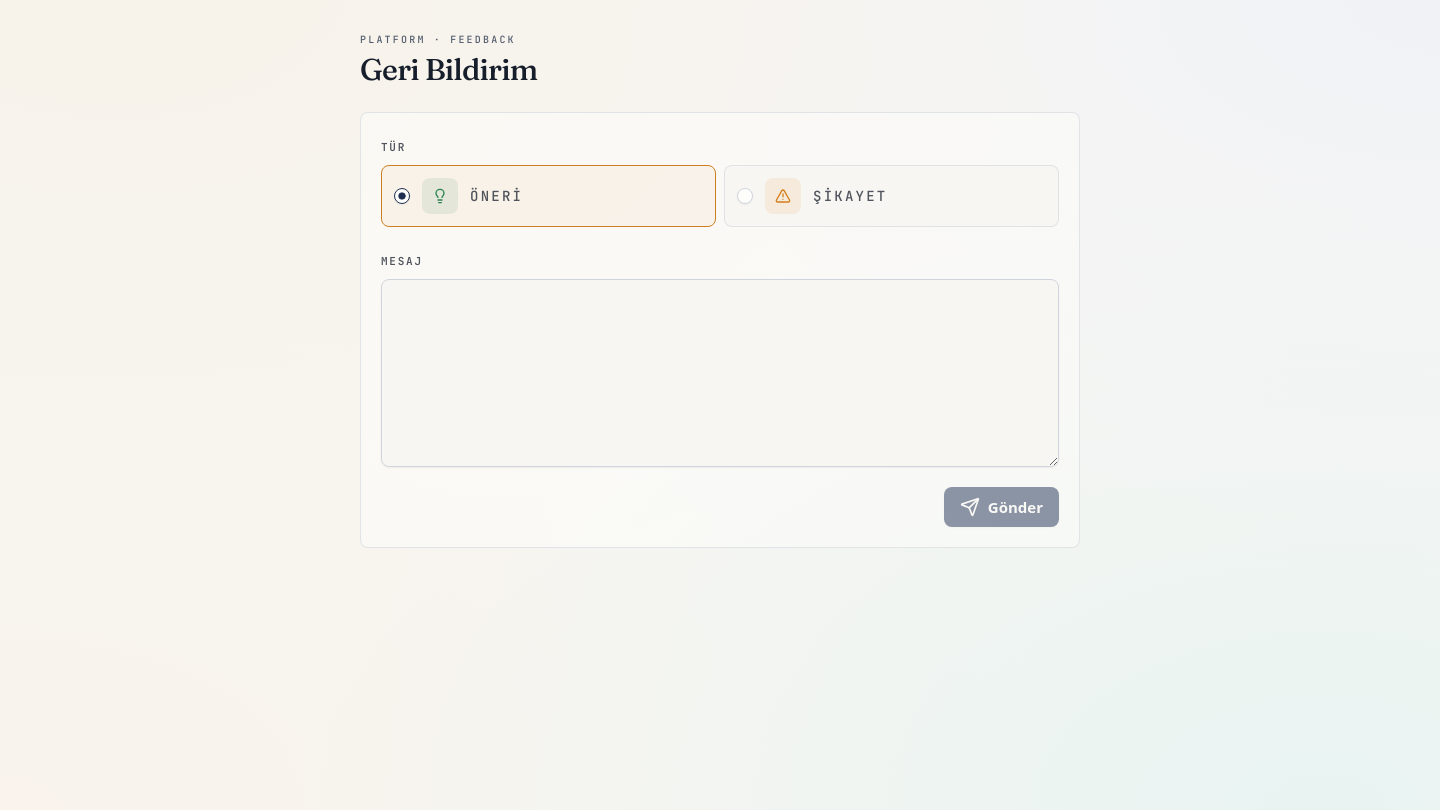
Test: Feedback › submits trimmed feedback payload
This screenshot has width=1440, height=810.
Click the radio button named "şikayet": (745, 196) [737,188,753,204]
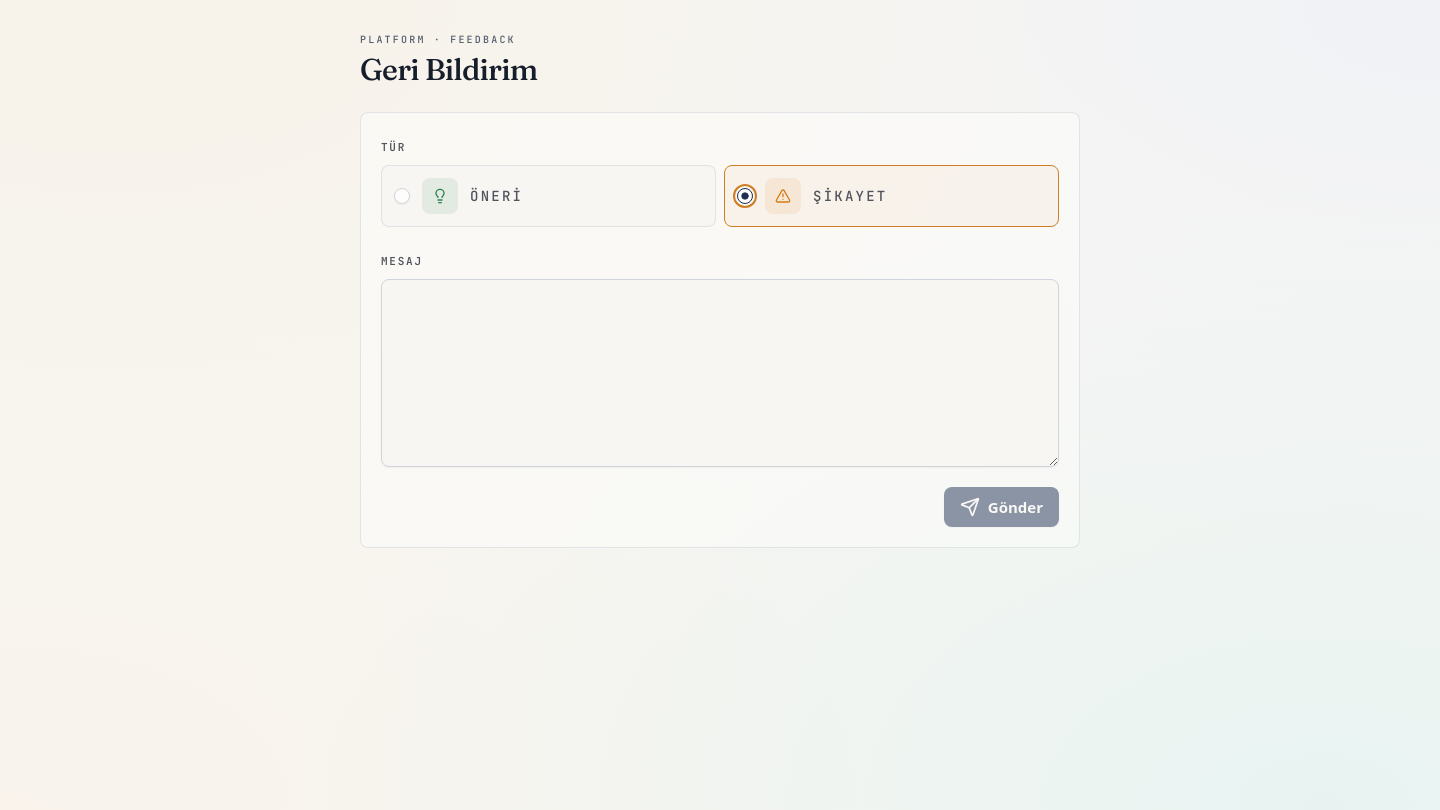
In the text box labelled "Mesaj": (720, 373) [381,278,1059,467], type "  Panel kapanıyor  "
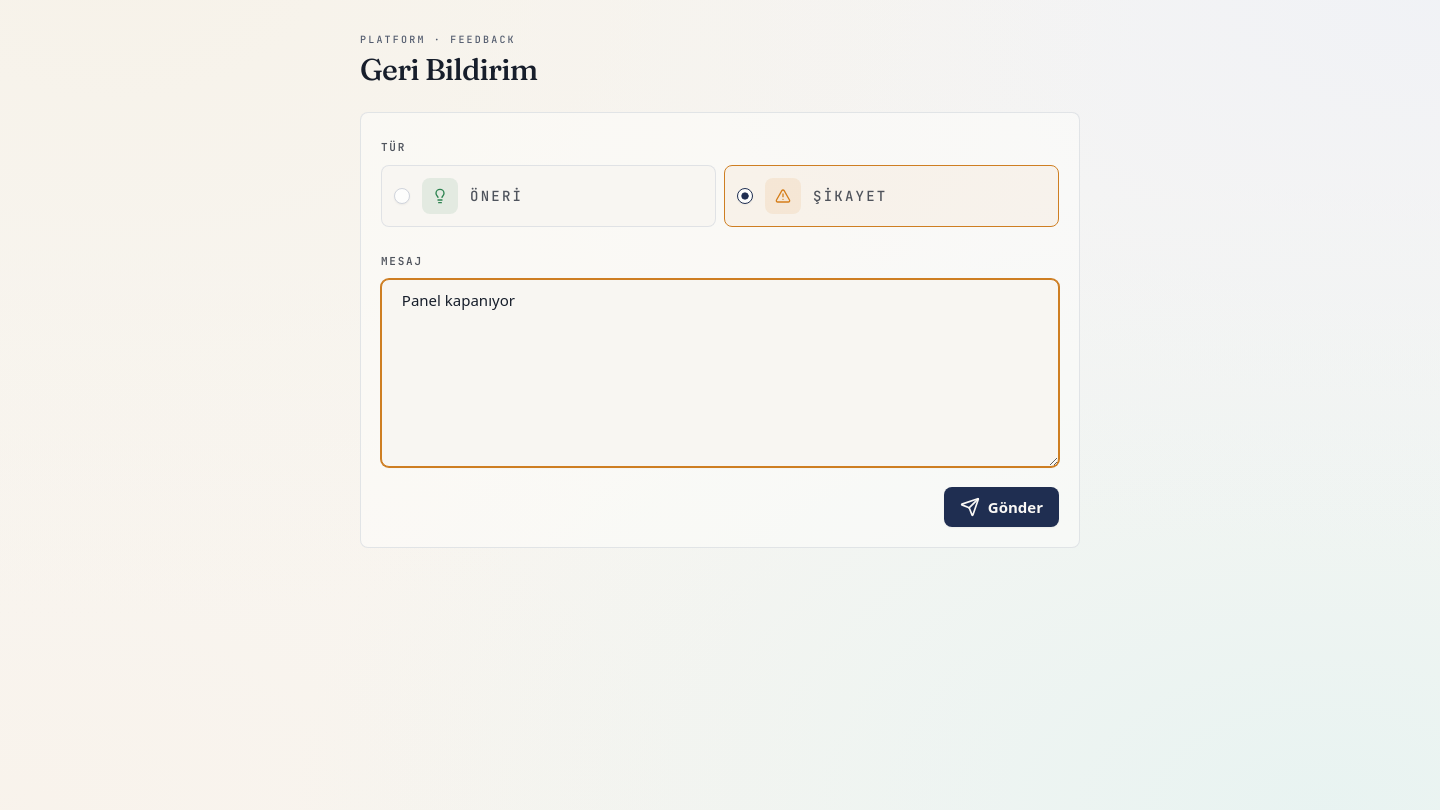
Click the button "Gönder": (1001, 507) [944,487,1059,527]
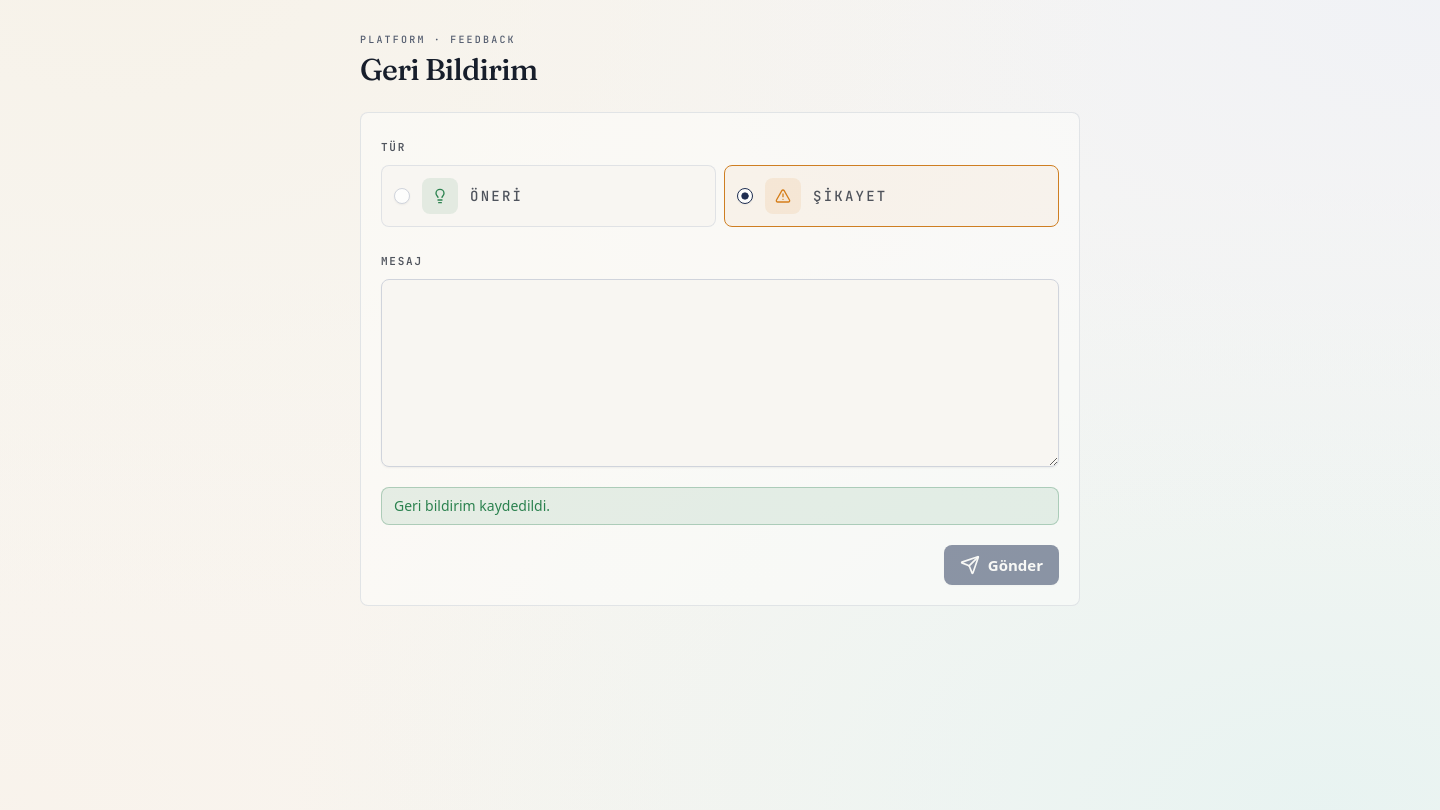
Expected: the message shows "kaydedildi", [394,496,550,515]
Expected: the text box labelled "Mesaj" is empty, [381,278,1059,467]
